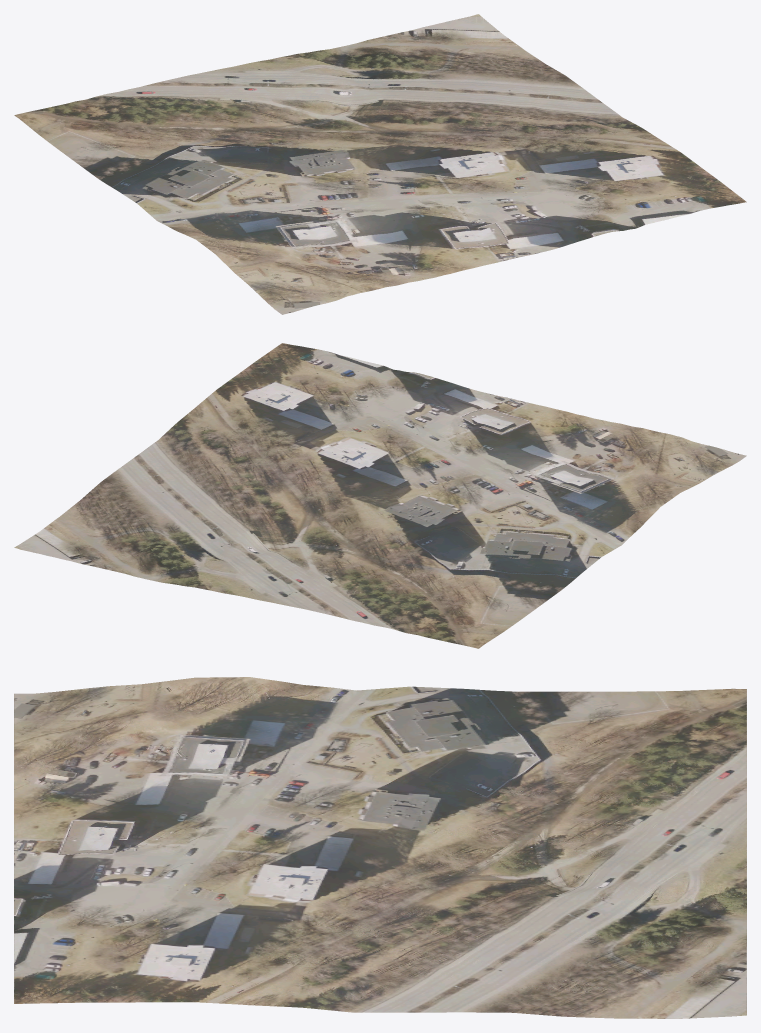
The model's file is CM_Terrain_24490049_6820818.fbx.
3 views of the same model, one above another, from view 1: azimuth 30°, elevation 25°; view 2: azimuth 150°, elevation 25°; view 3: azimuth 270°, elevation 25° (orthographic). The views are drawn at different scales.
Visible parts, largest first — view 1: CM_Terrain_24490049_6820818_LOD0; view 2: CM_Terrain_24490049_6820818_LOD0; view 3: CM_Terrain_24490049_6820818_LOD0.
Part boxes in pixels (x1,y1,x2,y2): CM_Terrain_24490049_6820818_LOD0: (14, 14, 746, 314); CM_Terrain_24490049_6820818_LOD0: (14, 343, 746, 648); CM_Terrain_24490049_6820818_LOD0: (14, 677, 746, 1018).
Size of what is drawn, in the model's own units: 205 by 9.97 by 205.
